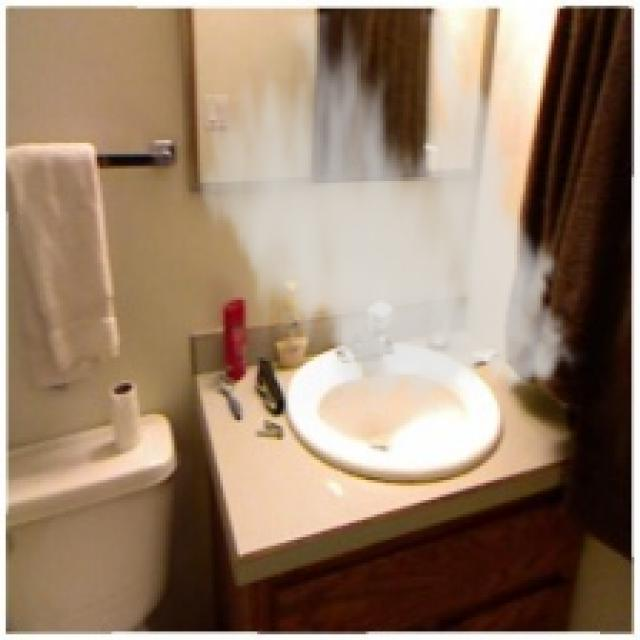smoke: (188, 11, 586, 420)
